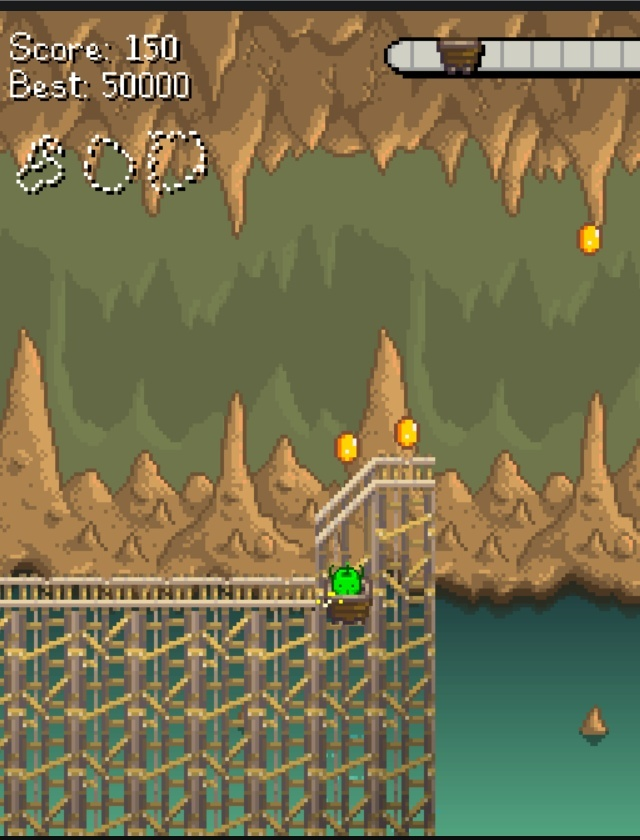coins: (395, 416, 419, 449), (335, 432, 358, 464), (578, 224, 601, 254)
minecart: (327, 584, 369, 621)
score: (127, 35, 178, 62)
tracks: (292, 452, 446, 553), (2, 562, 325, 610)
